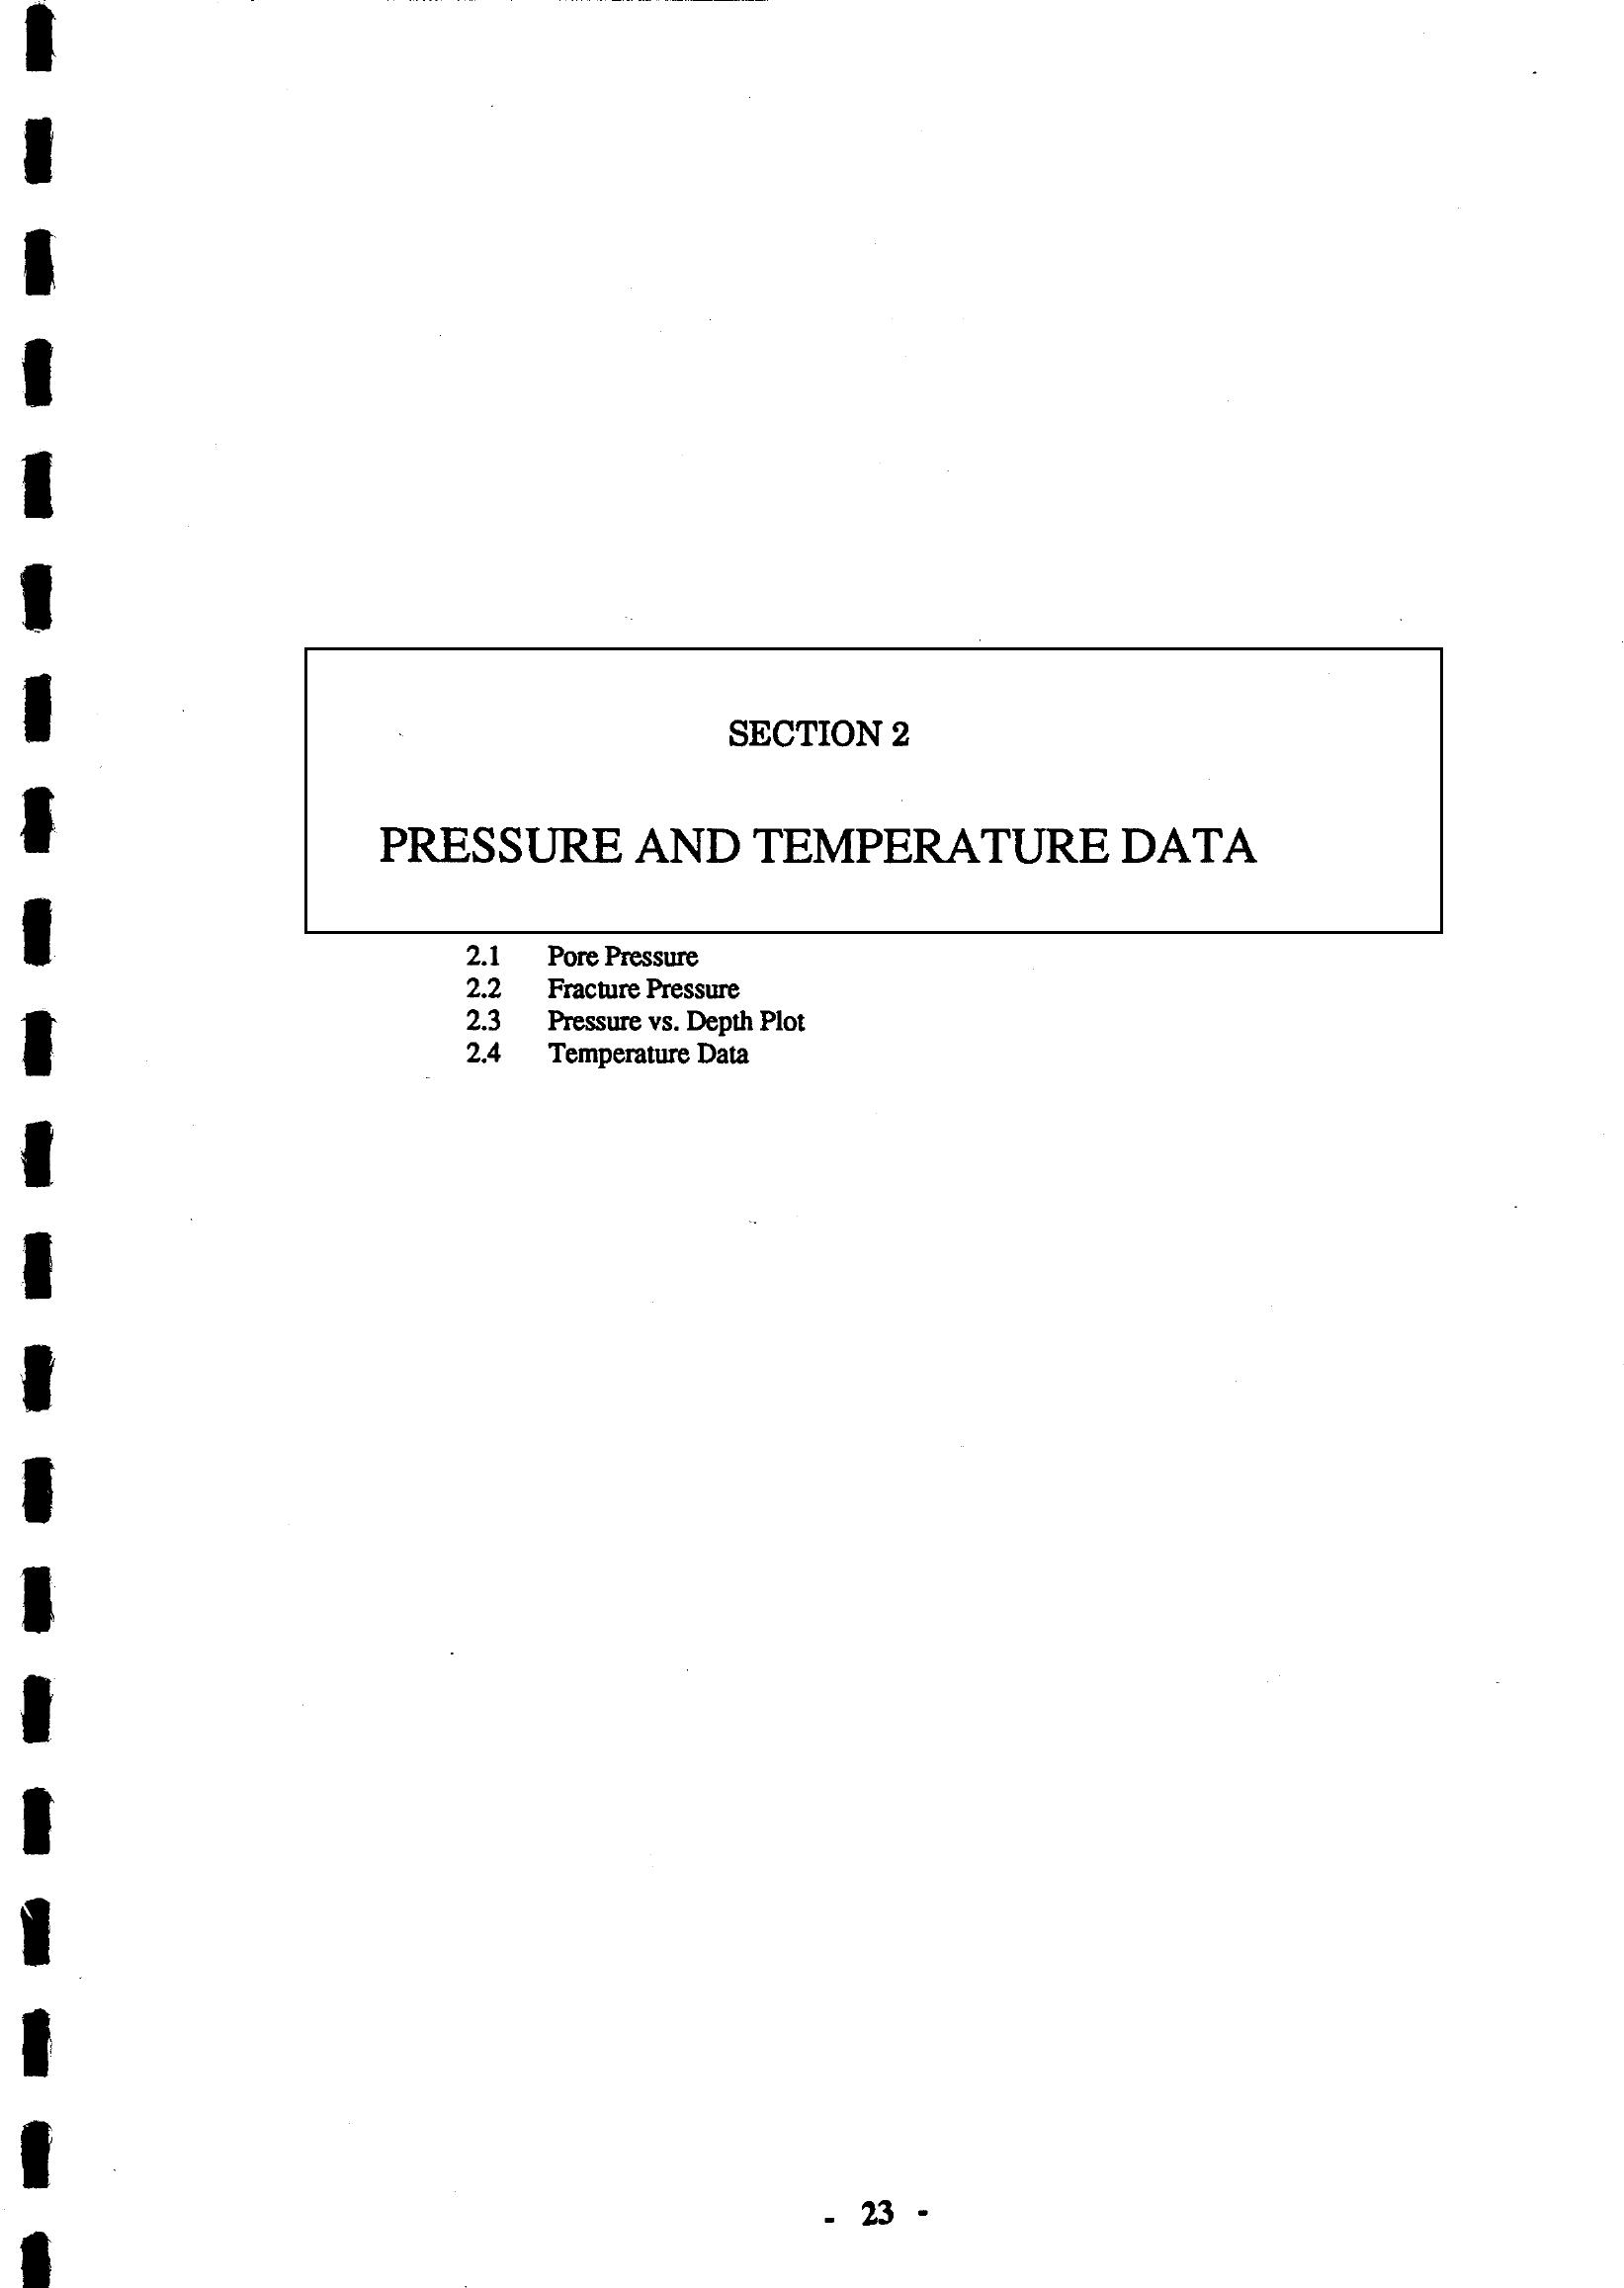text: (239, 620, 1499, 1102)
